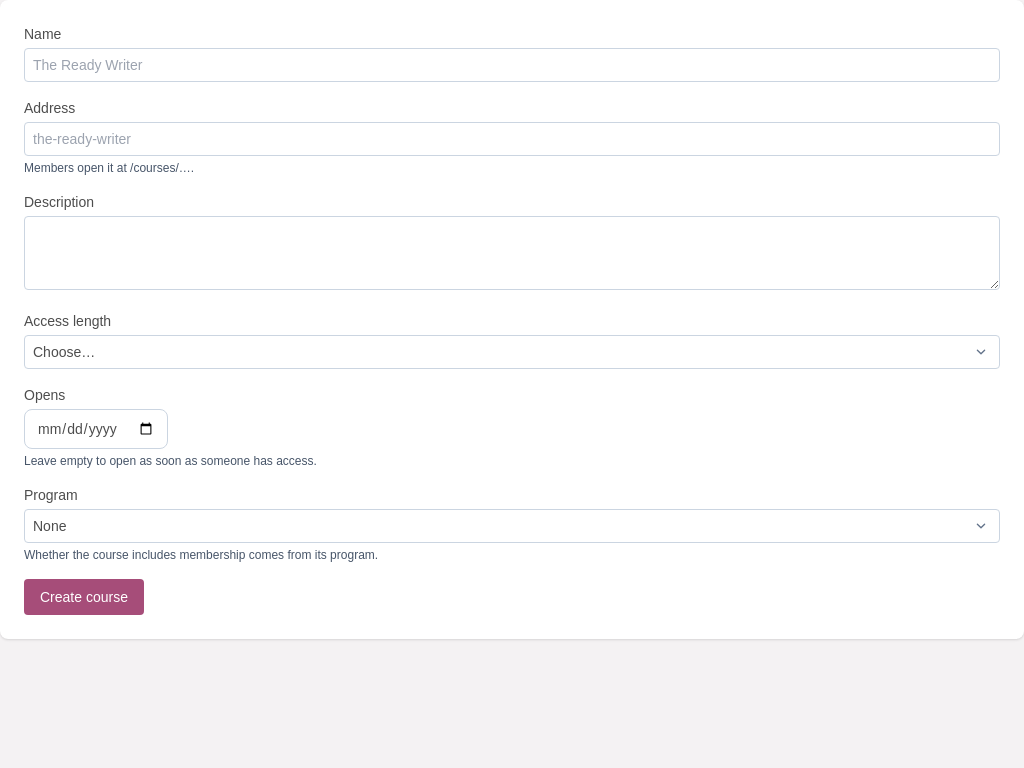
CourseDetailsForm, creating › shows a general failure, and keeps what was typed
In the field labelled "Name": [512, 65] box [24,48,1000,82], type "Kept"
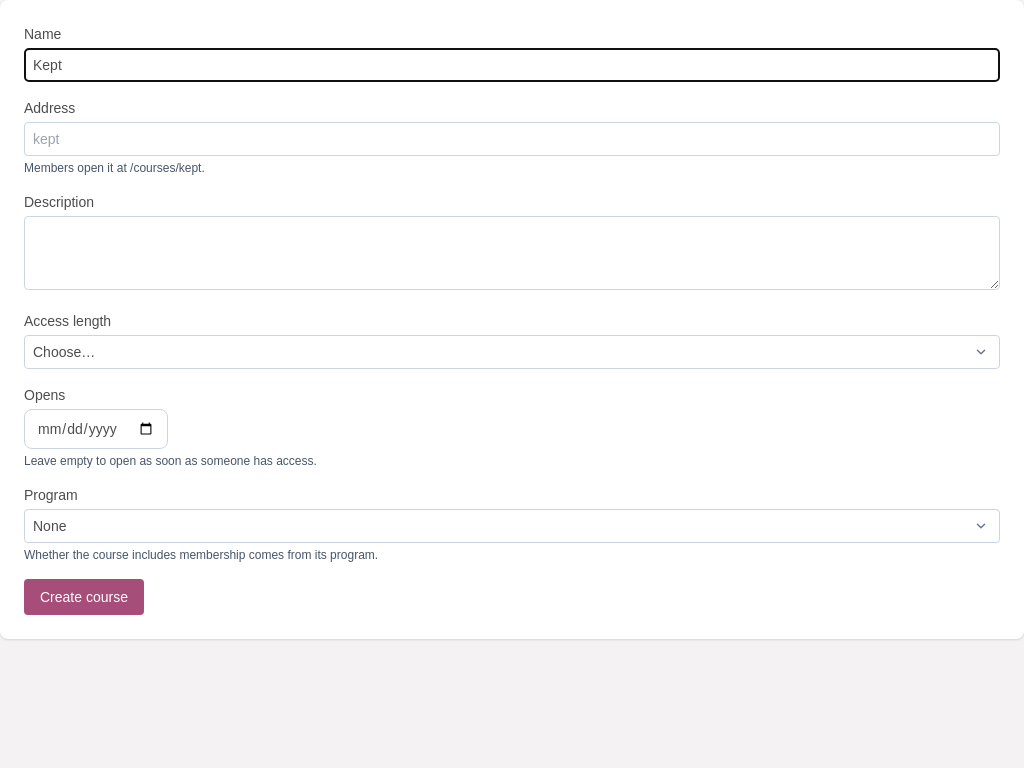
Click the button "Create course": [84, 597] box [24,579,144,615]
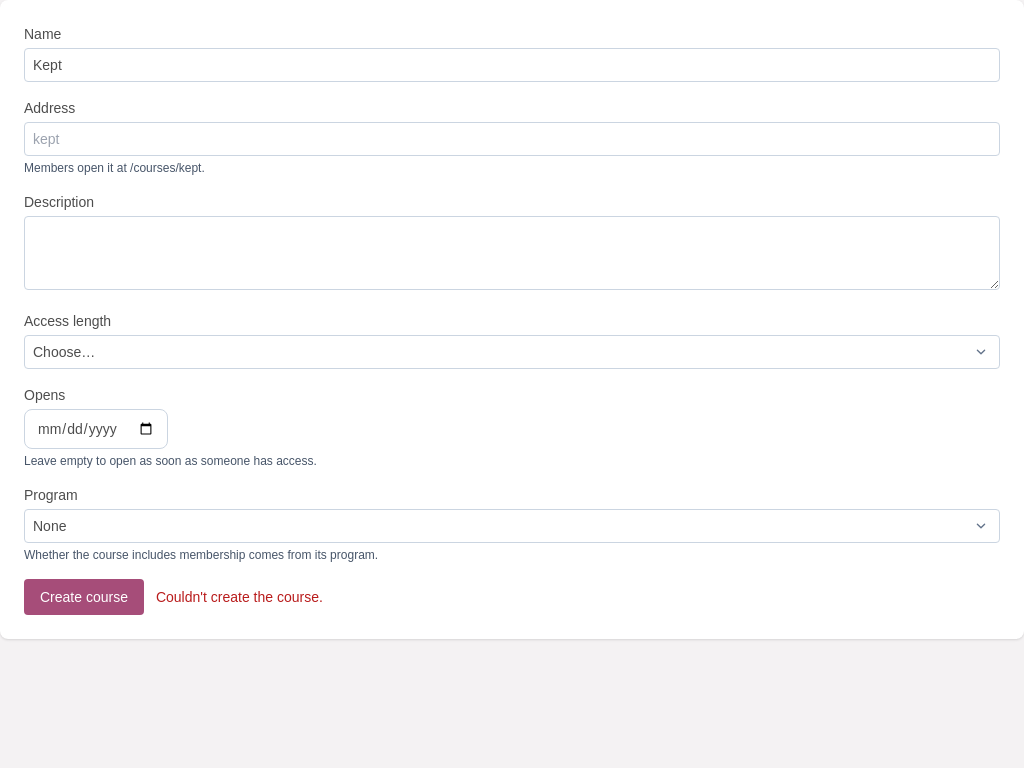
expect the text "Couldn't create the course." is shown: met, box [156,587,323,607]
